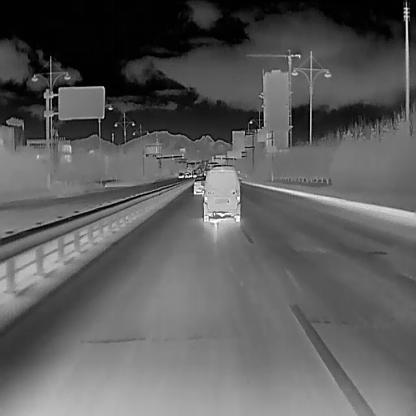car: (202, 164, 240, 223), (192, 175, 204, 195), (177, 171, 182, 178), (185, 171, 189, 178)
